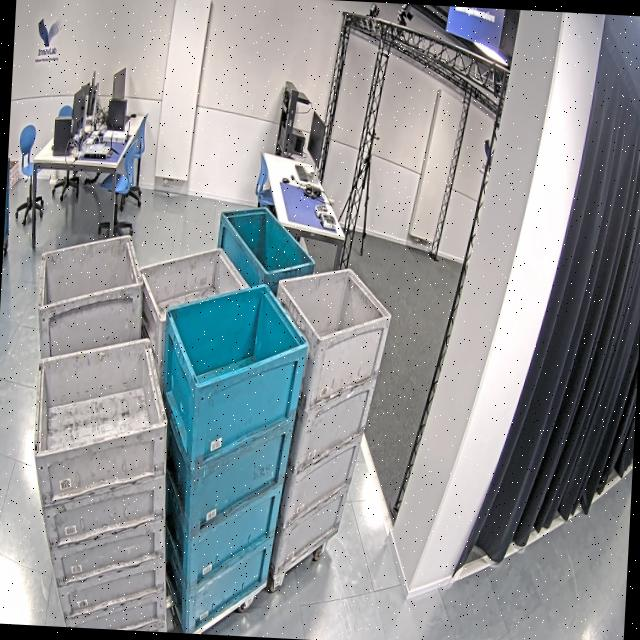Box3G: (25, 345, 176, 513), (134, 248, 256, 366), (36, 466, 172, 554), (42, 512, 172, 594), (48, 550, 171, 622), (57, 587, 166, 632)
Box4G: (272, 260, 396, 406), (34, 235, 158, 371), (288, 376, 382, 474), (276, 433, 364, 528), (270, 479, 349, 575)
BoxB4: (157, 269, 307, 477), (158, 414, 297, 544), (160, 478, 289, 596), (158, 532, 278, 636), (214, 206, 316, 296)
